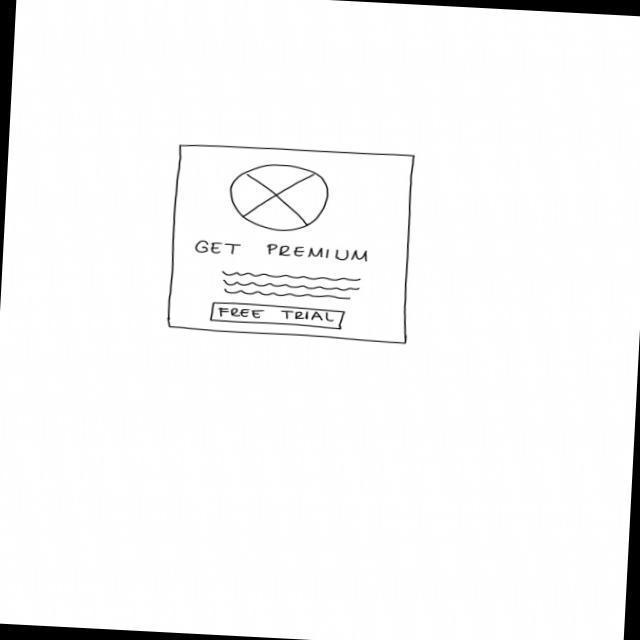button: (209, 301, 347, 332)
container: (167, 143, 419, 346)
image: (229, 162, 332, 235)
label: (194, 240, 372, 265)
textbox: (221, 271, 364, 303)
